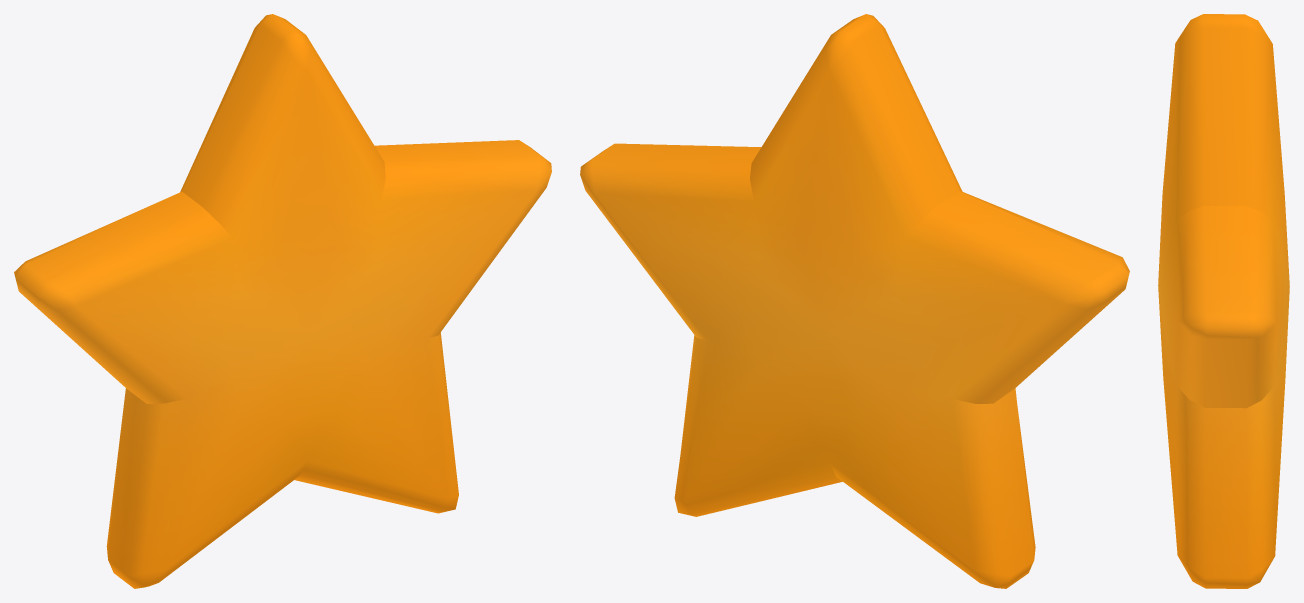
File: star_002.glb
3 views of the same model, side by side, from view 1: azimuth 30°, elevation 25°; view 2: azimuth 150°, elevation 25°; view 3: azimuth 270°, elevation 25° (orthographic). The views are drawn at different scales.
Parts seen in each view (by area): view 1: star_002; view 2: star_002; view 3: star_002.
Part boxes in pixels (x1,y1,x2,y2): star_002: (14, 14, 551, 588); star_002: (580, 14, 1129, 588); star_002: (1158, 14, 1289, 588).
Bounding box in the file's own units: 1.57 × 1.5 × 0.3587.
1 material, 1 textured.
